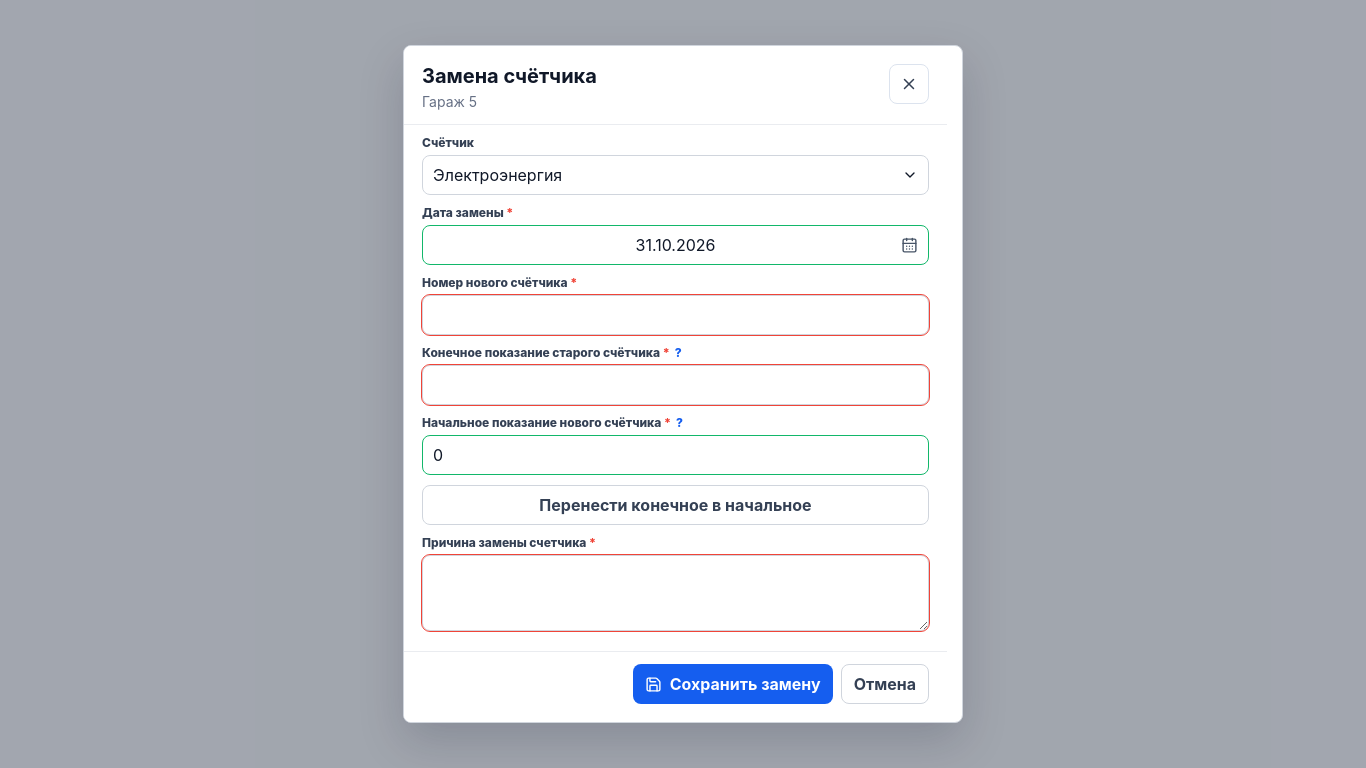
Test: includes earlier devices in a repeated replacement and transfers the final value only on an explicit action
The width and height of the screenshot is (1366, 768).
Expected: the button "Сохранить замену" is enabled, [633,664,833,704]
Type "9" into the field named "Конечное показание старого счетчика" at x=676, y=385, box [422,365,929,405]
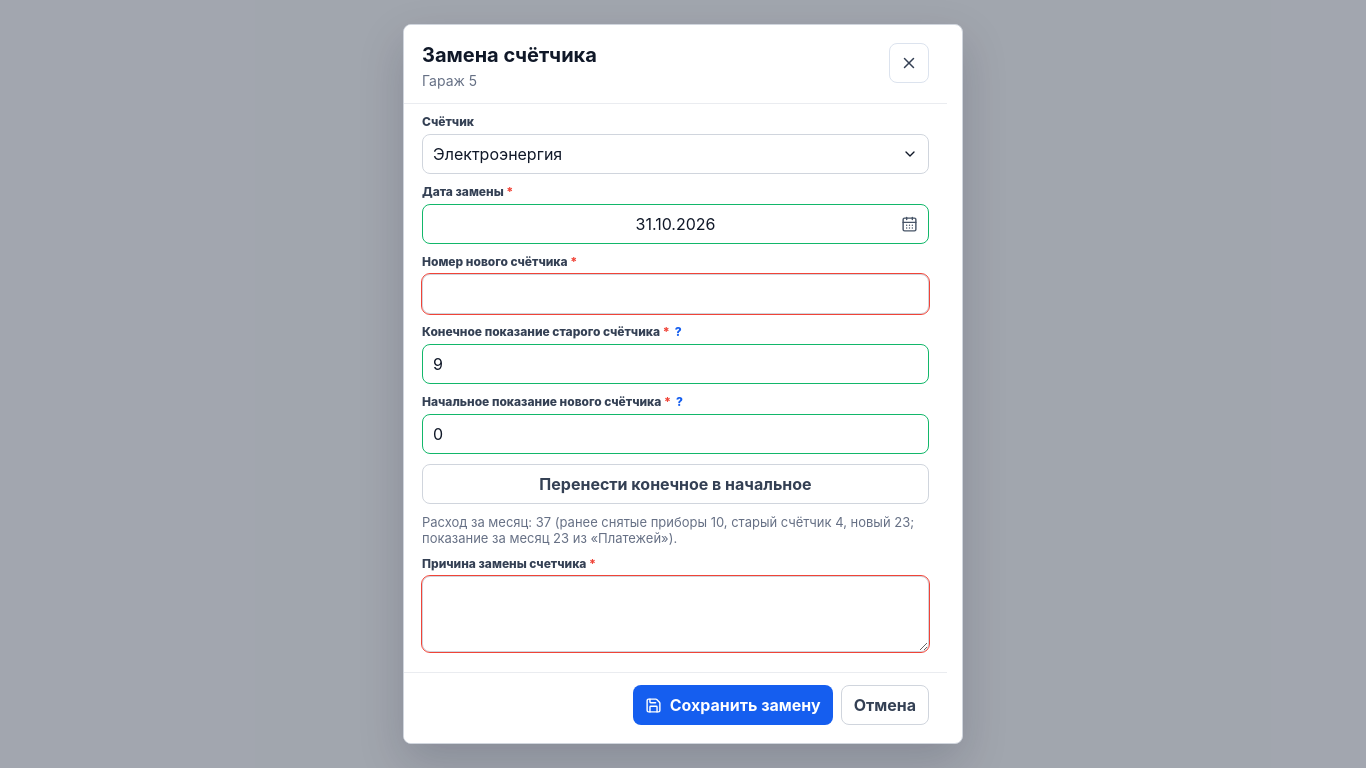
Replace the text in the field named "Начальное показание нового счетчика" with "20" at x=676, y=434, box [422,414,929,454]
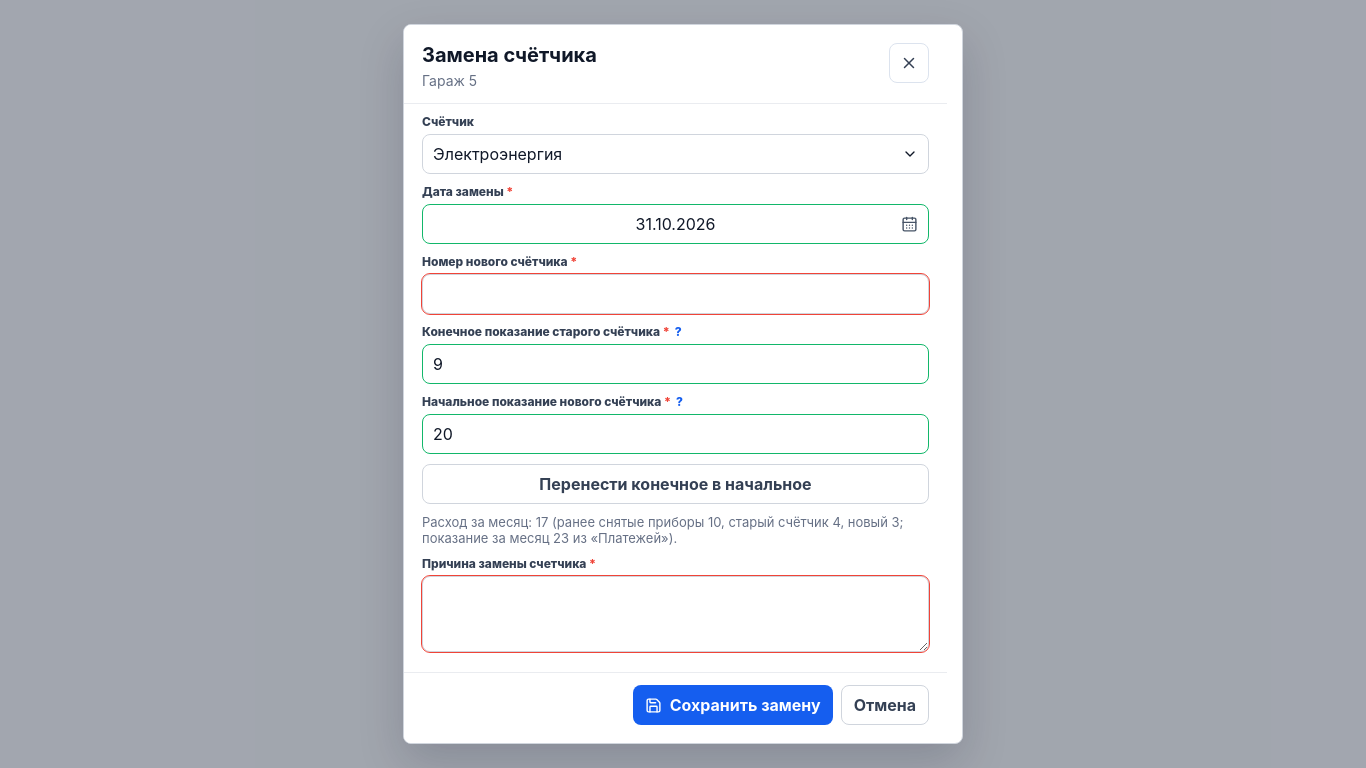
Expected: the text "Расход за месяц: 17" shows "ранее снятые приборы 10", [422,514,904,546]
Click the button "Перенести конечное в начальное" at x=676, y=484, box [422,464,929,504]
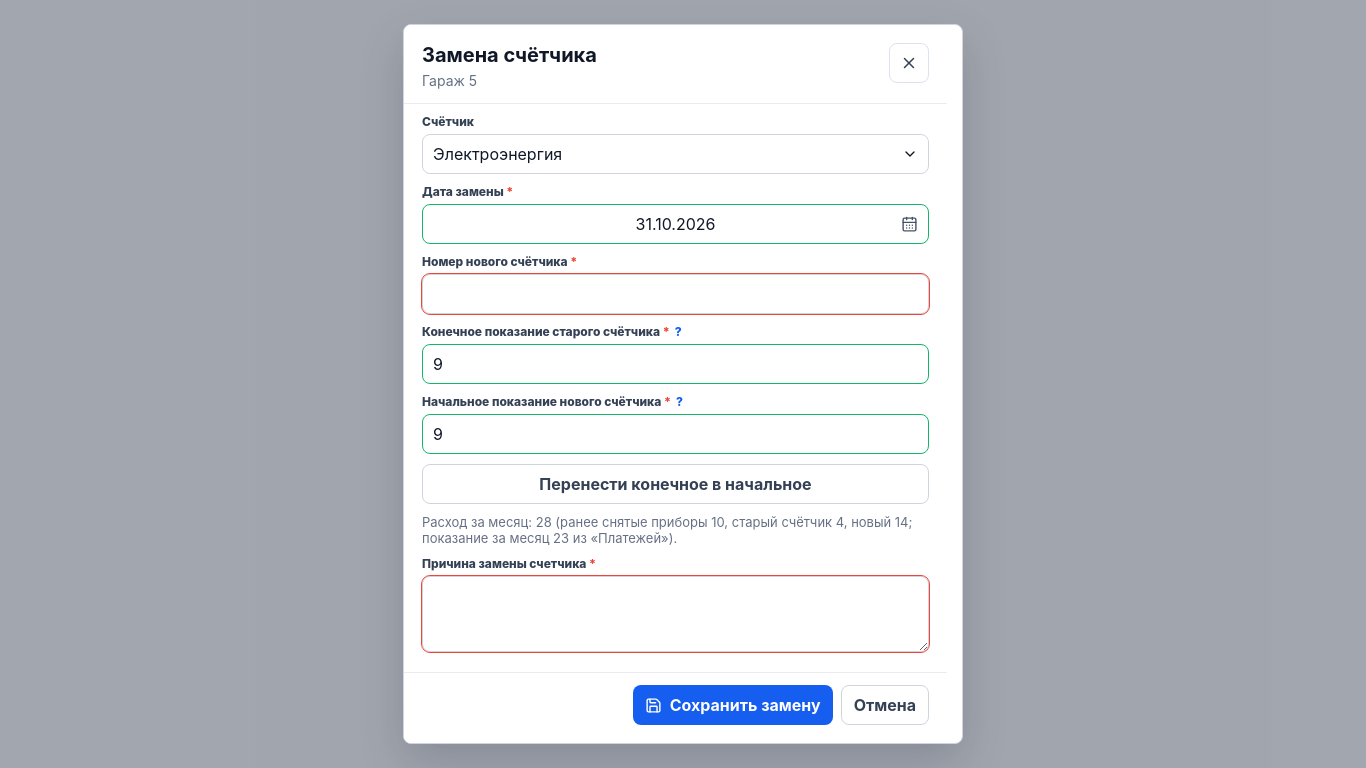
Expected: the field named "Начальное показание нового счетчика" holds "9", [422,414,929,454]
Expected: the text "Расход за месяц: 28" is shown, [422,514,912,546]
